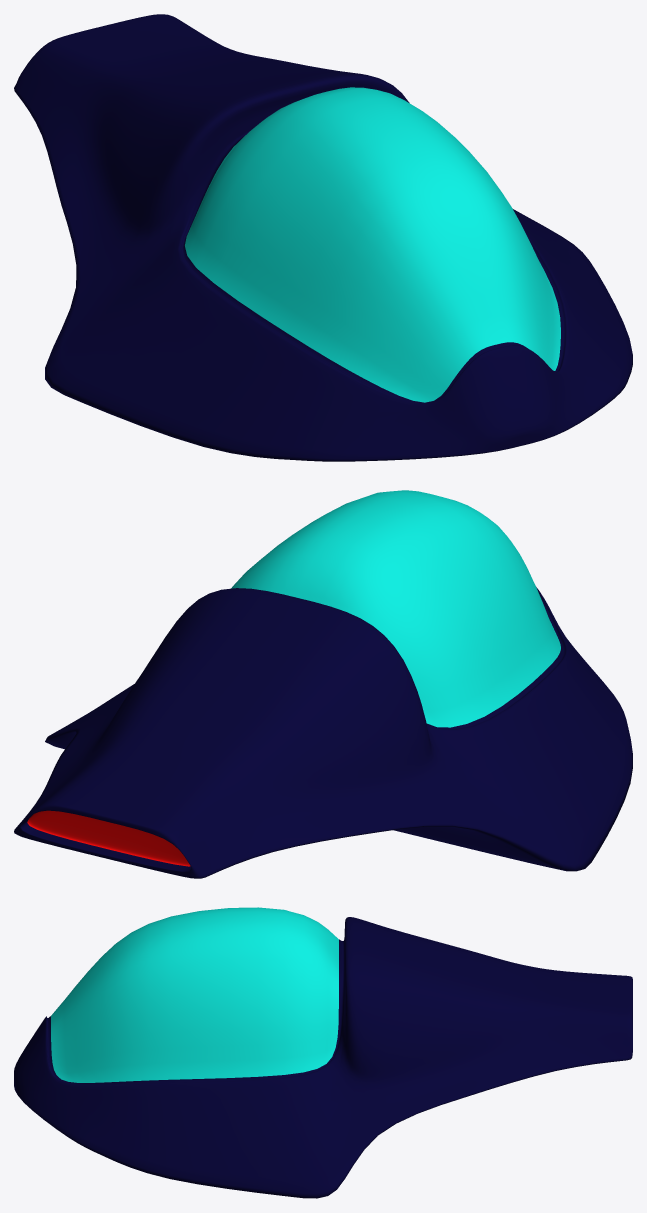
File: P_Spaceship_New.FBX
3 views of the same model, one above another, from view 1: azimuth 30°, elevation 25°; view 2: azimuth 150°, elevation 25°; view 3: azimuth 270°, elevation 25° (orthographic). The views are drawn at different scales.
Visible parts, largest first — view 1: HD; view 2: HD; view 3: HD.
Part boxes in pixels (x1,y1,x2,y2): HD: (14, 14, 632, 461); HD: (14, 490, 632, 878); HD: (14, 907, 632, 1198).
Bounding box in the file's own units: 12.88 × 5.85 × 17.38.
